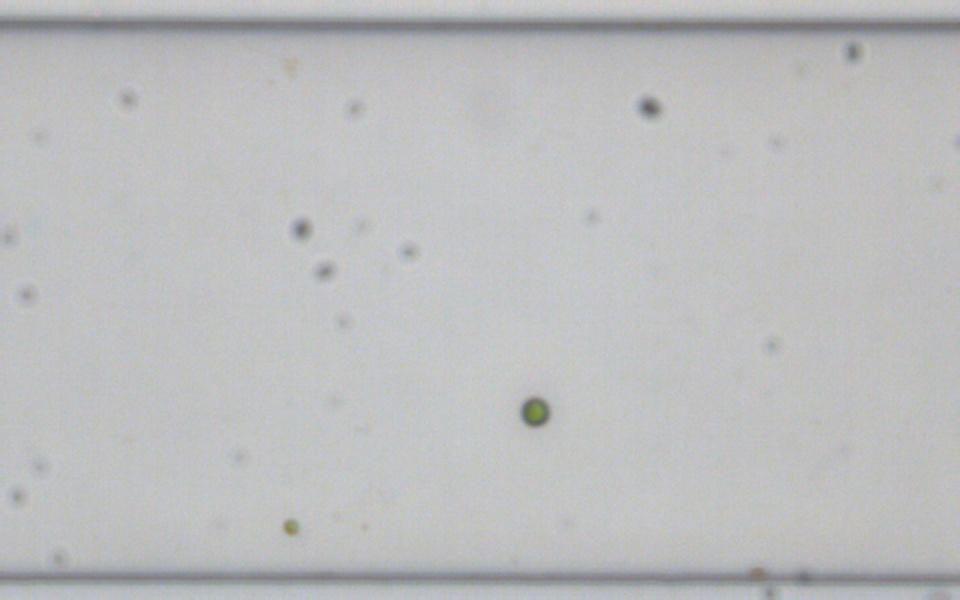Chlorella: (520, 396, 549, 425), (280, 516, 300, 535)
